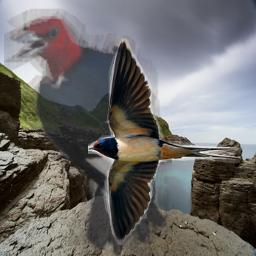Swallow: (88, 38, 241, 246)
Woodpecker: (4, 6, 179, 255)
